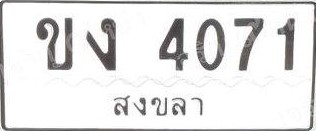txt02: (35, 16, 75, 72)
txt05: (85, 17, 118, 72)
